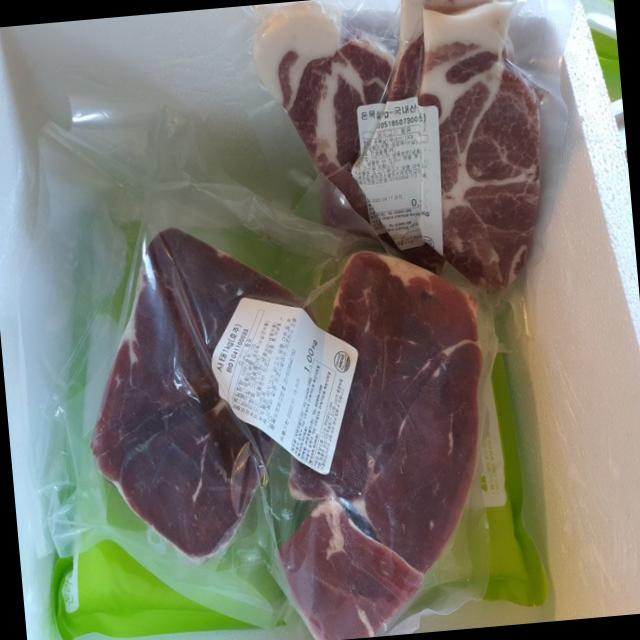beef: (289, 0, 539, 251), (92, 223, 286, 509), (354, 272, 476, 537)
